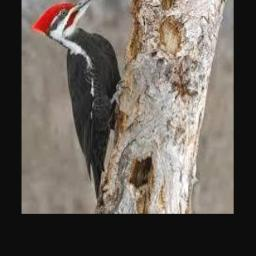Woodpecker: (31, 0, 122, 202)
